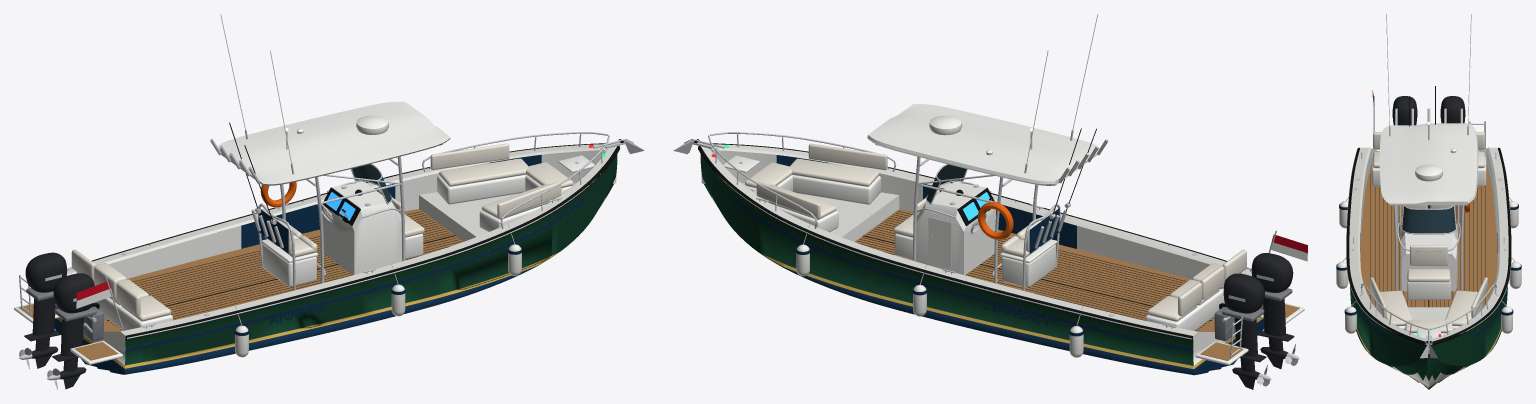
The model's file is tender.glb.
3 views of the same model, side by side, from view 1: azimuth 30°, elevation 25°; view 2: azimuth 150°, elevation 25°; view 3: azimuth 270°, elevation 25° (orthographic). The views are drawn at different scales.
Visible parts, largest first — view 1: tender; view 2: tender; view 3: tender.
Boxes of the visible parts, x1,y1,x2,y2 form: tender: (14, 14, 644, 389); tender: (673, 14, 1307, 389); tender: (1336, 14, 1521, 389).
Size of the model in its own units: 10.96 by 5.18 by 3.4.
